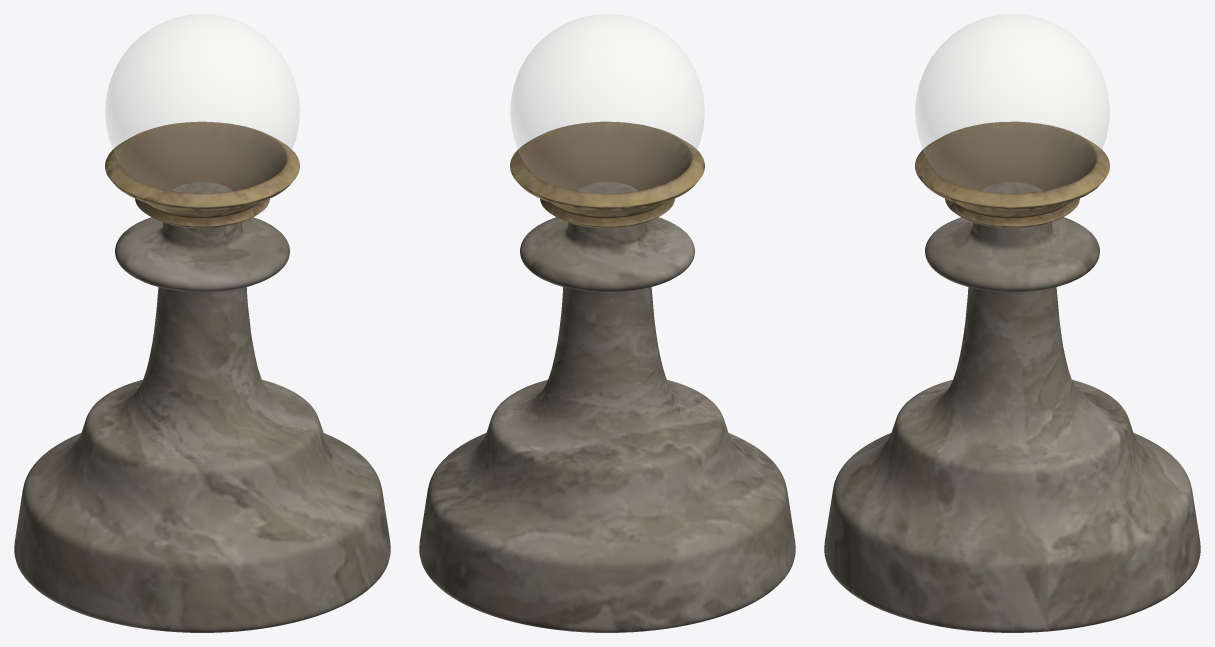
Rendered from pawn.glb.
3 renders of one model, left to right at view 1: azimuth 30°, elevation 25°; view 2: azimuth 150°, elevation 25°; view 3: azimuth 270°, elevation 25°, orthographic.
Visible parts, largest first — view 1: Pawn_Body_Shared, Pawn_Top_W1; view 2: Pawn_Body_Shared, Pawn_Top_W1; view 3: Pawn_Body_Shared, Pawn_Top_W1.
Part boxes in pixels (<box>): Pawn_Body_Shared: <box>14,121,390,632</box>; Pawn_Top_W1: <box>105,14,299,193</box>; Pawn_Body_Shared: <box>419,121,795,632</box>; Pawn_Top_W1: <box>510,14,704,192</box>; Pawn_Body_Shared: <box>824,121,1200,632</box>; Pawn_Top_W1: <box>915,14,1109,192</box>.
Bounding box in the file's own units: 0.0317 × 0.05 × 0.0317.
2 materials, 1 textured.
